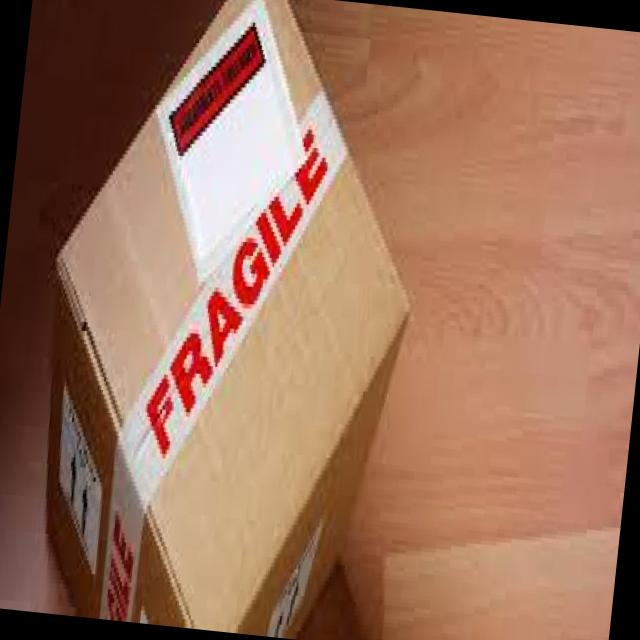box: (46, 1, 413, 638)
